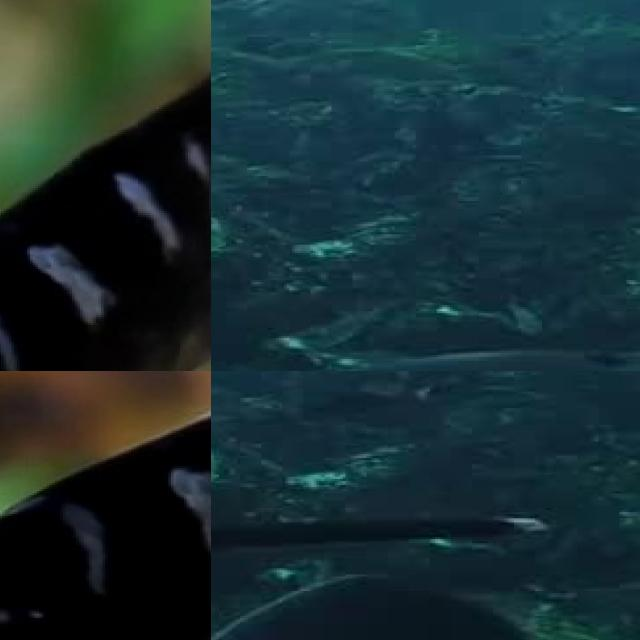fish: (0, 0, 211, 371), (0, 371, 211, 640)
